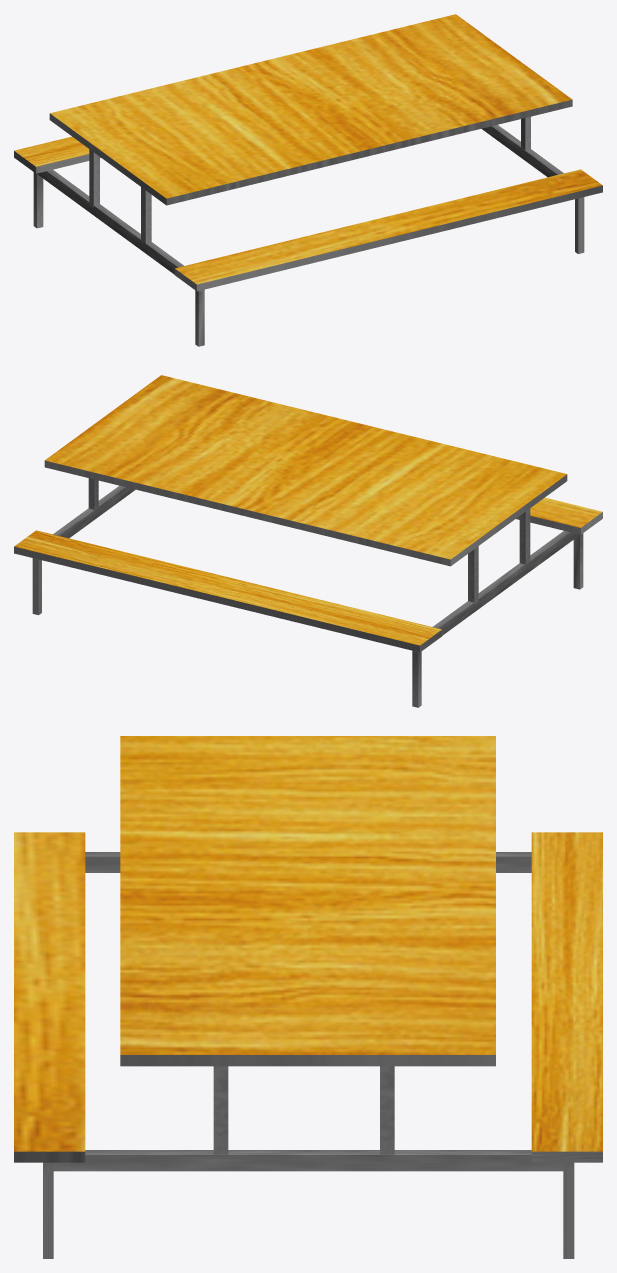
Rendered from cafetTables.fbx.
3 views of the same model, one above another, from view 1: azimuth 30°, elevation 25°; view 2: azimuth 150°, elevation 25°; view 3: azimuth 270°, elevation 25° (orthographic). The views are drawn at different scales.
Parts seen in each view (by area): view 1: Cube, Cube.004, Cube.002, Cube.008, Cube.006, Cube.001, Cube.003; view 2: Cube, Cube.008, Cube.002, Cube.004, Cube.006, Cube.003, Cube.001; view 3: Cube, Cube.004, Cube.008, Cube.006, Cube.002, Cube.007, Cube.005.
Boxes of the visible parts, left/top/right/bottom form: Cube: left=49, top=14, right=572, bottom=205; Cube.004: left=174, top=169, right=602, bottom=291; Cube.002: left=33, top=169, right=204, bottom=346; Cube.008: left=14, top=136, right=100, bottom=173; Cube.006: left=481, top=124, right=584, bottom=253; Cube.001: left=89, top=149, right=99, bottom=207; Cube.003: left=141, top=187, right=151, bottom=243; Cube: left=44, top=375, right=567, bottom=566; Cube.008: left=14, top=530, right=442, bottom=652; Cube.002: left=412, top=531, right=583, bottom=707; Cube.004: left=516, top=497, right=602, bottom=534; Cube.006: left=32, top=485, right=135, bottom=615; Cube.003: left=519, top=508, right=530, bottom=564; Cube.001: left=468, top=546, right=478, bottom=604; Cube: left=120, top=736, right=495, bottom=1066; Cube.004: left=14, top=832, right=85, bottom=1162; Cube.008: left=531, top=832, right=602, bottom=1162; Cube.006: left=43, top=1150, right=574, bottom=1258; Cube.002: left=85, top=852, right=531, bottom=872; Cube.007: left=213, top=1066, right=228, bottom=1154; Cube.005: left=380, top=1066, right=394, bottom=1154.
Size of the model in its own units: 415 by 129 by 322.
